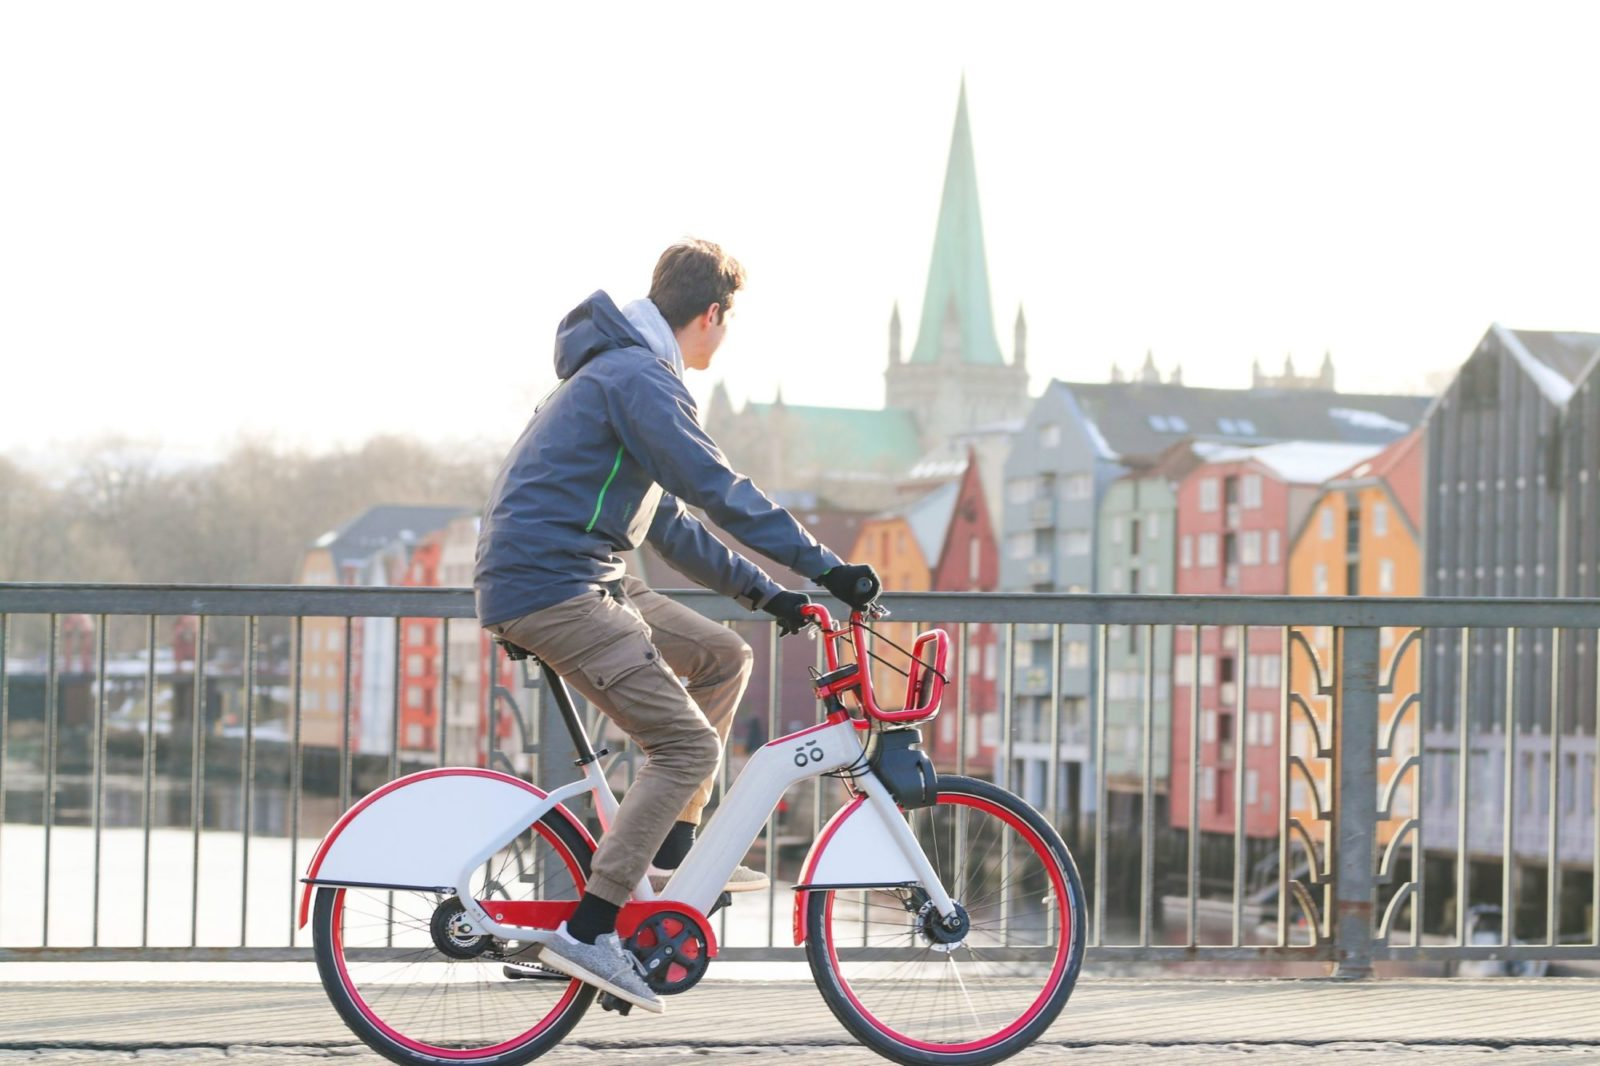Person: (475, 232, 883, 1016)
